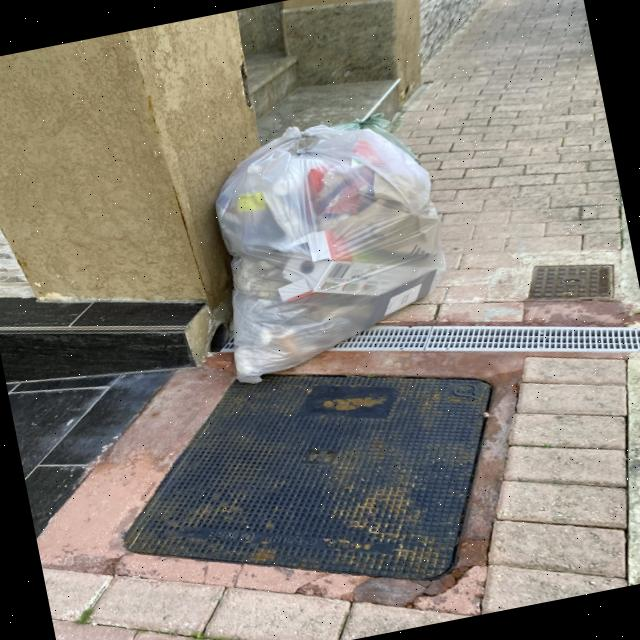Recyclable Material: (187, 106, 467, 390)
